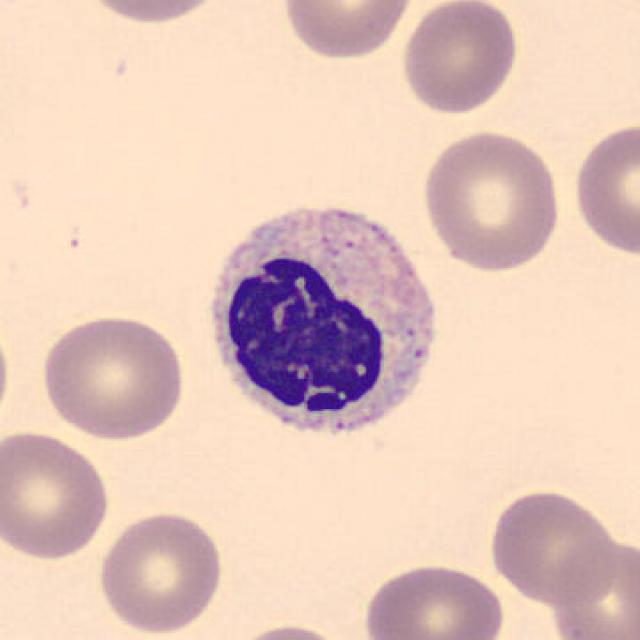Neutrophil: (194, 187, 453, 465)
RBC: (418, 125, 565, 273), (38, 310, 188, 442), (94, 508, 228, 636), (485, 485, 624, 606), (0, 427, 114, 562), (396, 0, 522, 116), (359, 559, 509, 640), (569, 118, 638, 259), (550, 532, 638, 640), (277, 0, 417, 63), (75, 0, 231, 28), (222, 619, 356, 640)
